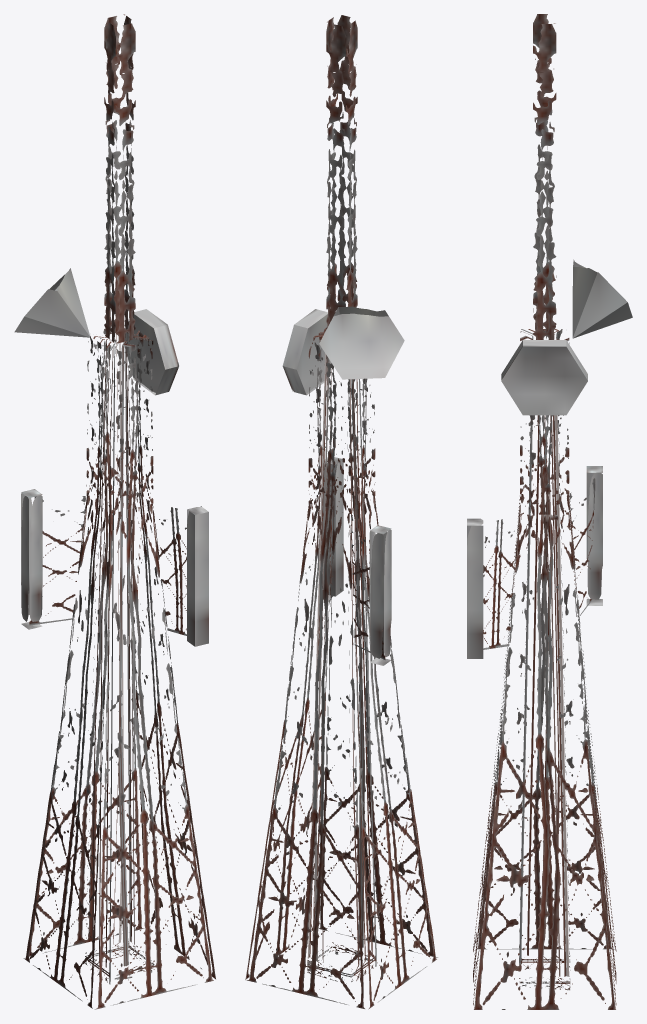
Rendered from RadioTower.fbx.
3 renders of one model, left to right at view 1: azimuth 30°, elevation 25°; view 2: azimuth 150°, elevation 25°; view 3: azimuth 270°, elevation 25°, orthographic.
Parts seen in each view (by area): view 1: Cube; view 2: Cube; view 3: Cube.
Boxes of the visible parts, box(x1,y1,x2,y2) form: Cube: box(14, 14, 215, 1009); Cube: box(245, 15, 437, 1009); Cube: box(467, 14, 632, 1009).
Bounding box in the file's own units: 378 × 2441 × 381.
